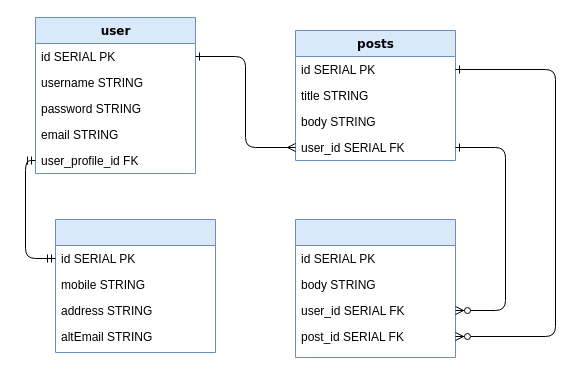
This 582x375 diagram has some shape labels left out. Each missing label, with the box of its shape:
comment: (294, 218, 456, 358)
user_profile: (54, 218, 216, 352)
